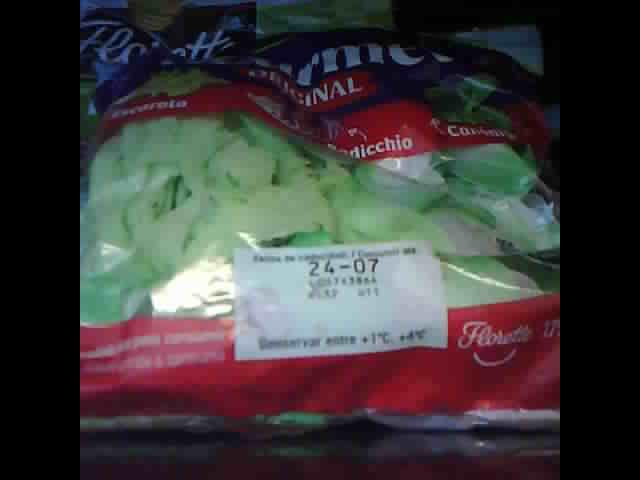florette: (82, 3, 552, 434)
